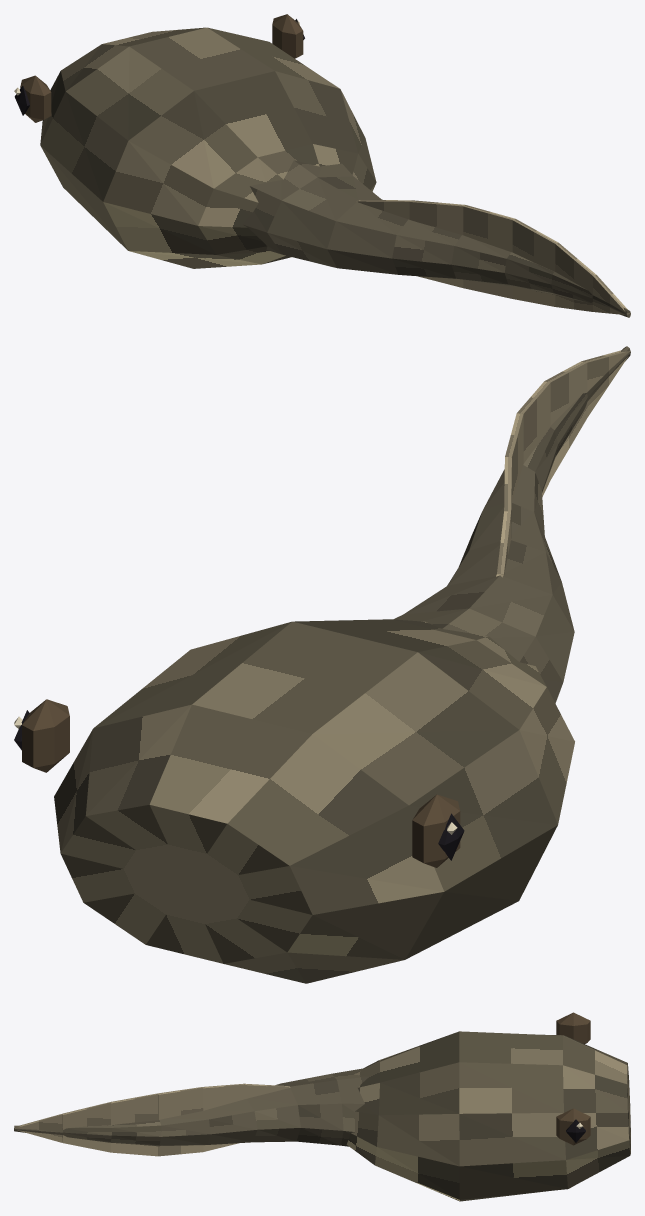
Rendered from mon_spade_tadpole.glb.
3 views of the same model, one above another, from view 1: azimuth 30°, elevation 25°; view 2: azimuth 150°, elevation 25°; view 3: azimuth 270°, elevation 25° (orthographic). The views are drawn at different scales.
Parts seen in each view (by area): view 1: closed_body; view 2: closed_body; view 3: closed_body.
Boxes of the visible parts, x1,y1,x2,y2 form: closed_body: [14, 14, 630, 317]; closed_body: [14, 346, 630, 983]; closed_body: [14, 1012, 630, 1201].
Size of the model in its own units: 0.033 by 0.0197 by 0.0793.
1 material, 1 textured.
